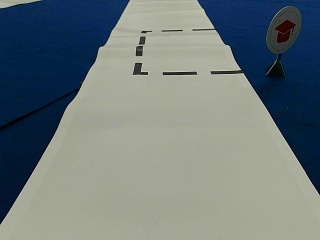school: (266, 6, 300, 53)
